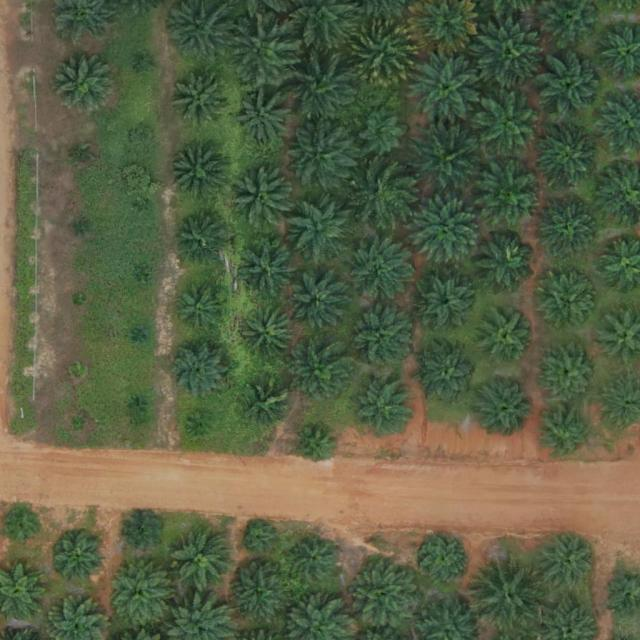Healthy: (347, 555, 425, 634), (471, 556, 549, 635), (474, 92, 545, 163), (410, 51, 481, 122), (410, 200, 481, 271), (286, 55, 356, 126), (289, 119, 359, 190), (229, 15, 299, 86), (165, 336, 235, 407), (474, 19, 544, 89), (409, 125, 479, 195), (537, 128, 600, 191), (290, 342, 353, 405), (349, 308, 412, 371), (352, 376, 415, 439), (109, 562, 172, 625), (227, 563, 290, 626), (539, 55, 601, 118), (539, 196, 601, 259), (481, 161, 543, 224), (474, 231, 537, 293), (354, 164, 416, 227), (349, 240, 412, 302), (288, 199, 350, 262), (231, 168, 293, 231), (236, 238, 298, 301), (52, 50, 114, 113), (419, 344, 481, 407), (540, 342, 602, 405), (172, 529, 234, 592), (537, 532, 599, 595), (476, 376, 538, 438), (417, 277, 472, 332), (292, 278, 347, 333), (237, 91, 292, 146), (170, 147, 225, 202), (174, 213, 229, 268), (243, 308, 298, 363), (53, 533, 108, 588), (542, 278, 596, 333), (175, 71, 229, 126), (481, 309, 535, 364), (540, 407, 594, 462), (359, 108, 406, 156), (422, 535, 469, 583), (247, 382, 294, 429), (292, 537, 339, 584)
Small: (176, 280, 231, 336), (296, 427, 335, 467), (4, 509, 43, 549), (123, 513, 162, 553), (245, 525, 276, 556), (132, 128, 156, 152), (190, 412, 214, 436), (72, 294, 88, 310), (140, 56, 155, 72), (137, 200, 153, 215), (134, 272, 149, 288), (75, 220, 90, 236), (70, 364, 85, 380), (134, 328, 150, 343), (75, 150, 90, 165), (72, 417, 87, 432), (130, 397, 145, 412)
Yellow: (348, 19, 418, 89)
